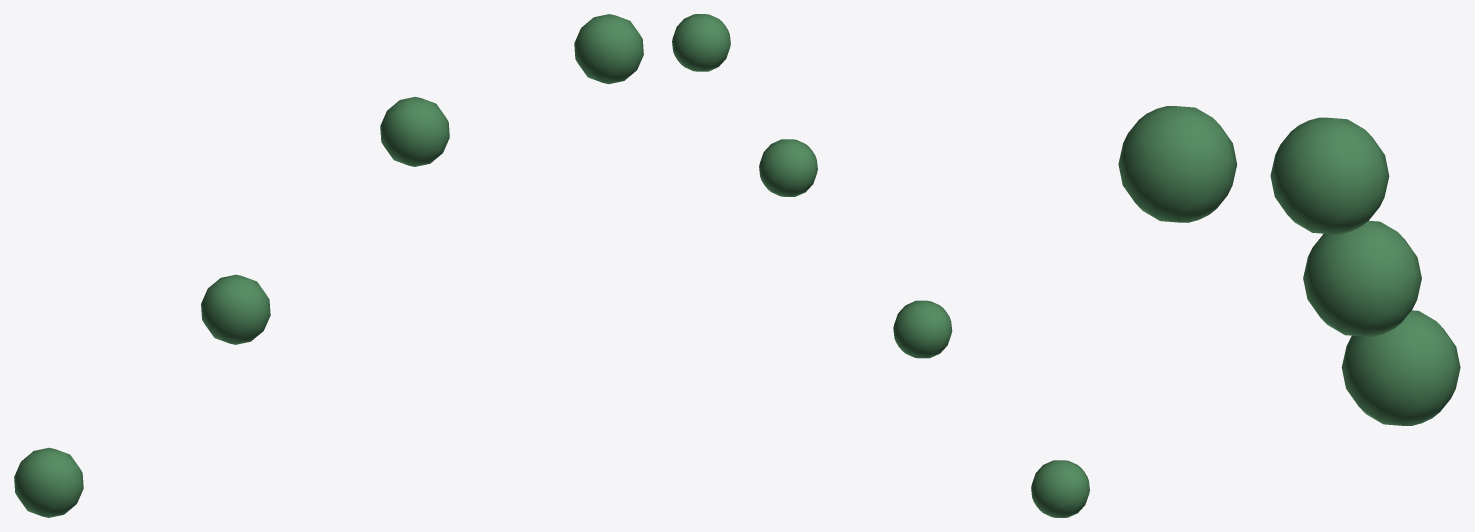
The picture shows the model from 3 angles, left to right: view 1: azimuth 30°, elevation 25°; view 2: azimuth 150°, elevation 25°; view 3: azimuth 270°, elevation 25°; orthographic projection. The views are drawn at different scales.
Visible parts, largest first — view 1: 左侧颏下淋巴结; view 2: 左侧颏下淋巴结; view 3: 左侧颏下淋巴结.
Boxes of the visible parts, x1,y1,x2,y2 form: 左侧颏下淋巴结: (14, 14, 643, 517); 左侧颏下淋巴结: (672, 14, 1089, 517); 左侧颏下淋巴结: (1118, 106, 1460, 425).
Size of the model in its own units: 0.0347 by 0.0254 by 0.011.
